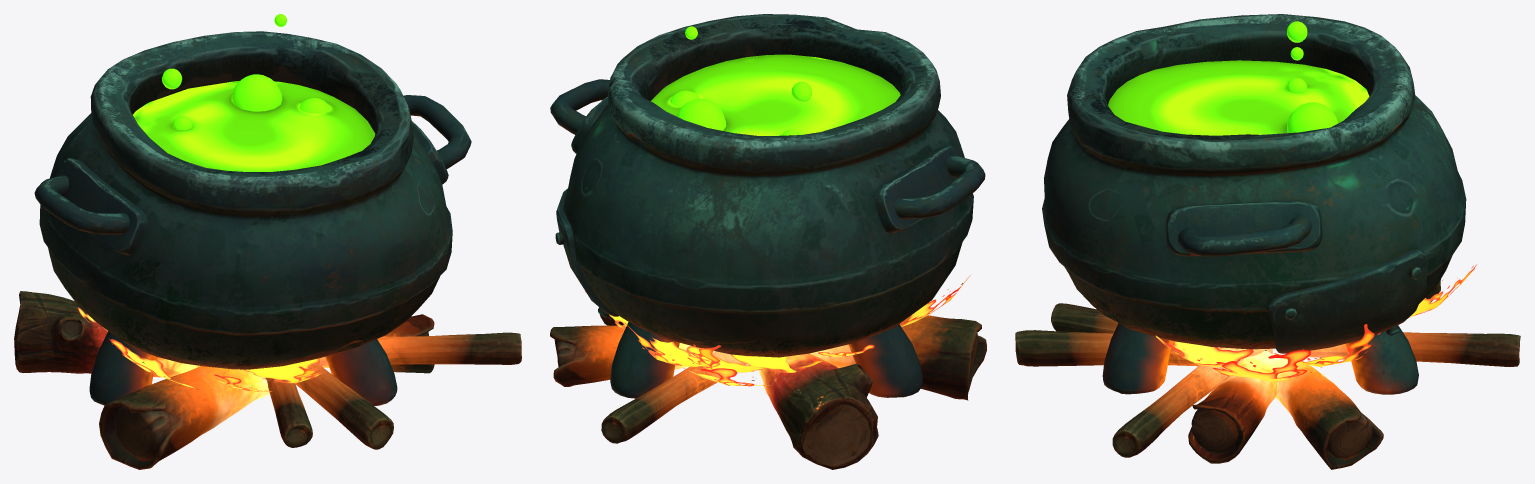
File: cauldron_stylised.glb
3 renders of one model, left to right at view 1: azimuth 30°, elevation 25°; view 2: azimuth 150°, elevation 25°; view 3: azimuth 270°, elevation 25°, orthographic. The views are drawn at different scales.
Parts seen in each view (by area): view 1: Cauldron_Body_low:ZBrush_defualt_group, Cauldron_FloatingPieces_low:Cauldron_FloatingPieces_low:poly, peeledWood_low, WoodLogA_low:ZBrush_defualt_group, branch_low:ZBrush_defualt_group, ZBrush_defualt_group1, ZBrush_defualt_group2, peeledWood_low2, pPlane12, pPlane1; view 2: Cauldron_Body_low:ZBrush_defualt_group, Cauldron_FloatingPieces_low:Cauldron_FloatingPieces_low:poly, WoodLogA_low:ZBrush_defualt_group, peeledWood_low, peeledWood_low1, ZBrush_defualt_group, pPlane15, pPlane9, pPlane10, FireSprites:pPlane1, pPlane1; view 3: Cauldron_Body_low:ZBrush_defualt_group, Cauldron_FloatingPieces_low:Cauldron_FloatingPieces_low:poly, peeledWood_low1, peeledWood_low2, ZBrush_defualt_group, branch_low:ZBrush_defualt_group, ZBrush_defualt_group1, ZBrush_defualt_group2, FireSprites:pPlane3, pPlane13, FireSprites:pPlane9, pPlane15.
Part boxes in pixels (x1=…): Cauldron_Body_low:ZBrush_defualt_group: x1=39, y1=31, x2=452, y2=369; Cauldron_FloatingPieces_low:Cauldron_FloatingPieces_low:poly: x1=34, y1=14, x2=471, y2=405; peeledWood_low: x1=99, y1=366, x2=269, y2=469; WoodLogA_low:ZBrush_defualt_group: x1=14, y1=291, x2=200, y2=377; branch_low:ZBrush_defualt_group: x1=319, y1=332, x2=521, y2=365; ZBrush_defualt_group1: x1=295, y1=364, x2=393, y2=449; ZBrush_defualt_group2: x1=265, y1=378, x2=312, y2=447; peeledWood_low2: x1=321, y1=314, x2=434, y2=373; pPlane12: x1=244, y1=358, x2=323, y2=383; pPlane1: x1=109, y1=339, x2=199, y2=389; Cauldron_Body_low:ZBrush_defualt_group: x1=562, y1=14, x2=973, y2=357; Cauldron_FloatingPieces_low:Cauldron_FloatingPieces_low:poly: x1=550, y1=26, x2=985, y2=398; WoodLogA_low:ZBrush_defualt_group: x1=758, y1=353, x2=878, y2=469; peeledWood_low: x1=810, y1=315, x2=986, y2=400; peeledWood_low1: x1=550, y1=325, x2=696, y2=386; ZBrush_defualt_group: x1=601, y1=351, x2=747, y2=443; pPlane15: x1=624, y1=322, x2=720, y2=367; pPlane9: x1=686, y1=344, x2=765, y2=372; pPlane10: x1=730, y1=353, x2=830, y2=373; FireSprites:pPlane1: x1=683, y1=363, x2=772, y2=386; pPlane1: x1=900, y1=275, x2=970, y2=326; Cauldron_Body_low:ZBrush_defualt_group: x1=1042, y1=14, x2=1466, y2=349; Cauldron_FloatingPieces_low:Cauldron_FloatingPieces_low:poly: x1=1102, y1=21, x2=1427, y2=394; peeledWood_low1: x1=1274, y1=358, x2=1383, y2=469; peeledWood_low2: x1=1188, y1=350, x2=1279, y2=463; ZBrush_defualt_group: x1=1308, y1=332, x2=1520, y2=366; branch_low:ZBrush_defualt_group: x1=1112, y1=347, x2=1241, y2=457; ZBrush_defualt_group1: x1=1015, y1=330, x2=1272, y2=366; ZBrush_defualt_group2: x1=1051, y1=303, x2=1118, y2=333; FireSprites:pPlane3: x1=1212, y1=350, x2=1321, y2=381; pPlane13: x1=1155, y1=335, x2=1253, y2=366; FireSprites:pPlane9: x1=1273, y1=324, x2=1380, y2=366; pPlane15: x1=1409, y1=264, x2=1476, y2=317.
Bounding box in the file's own units: 0.999 × 0.8357 × 1.04.
3 materials, 3 textured.
